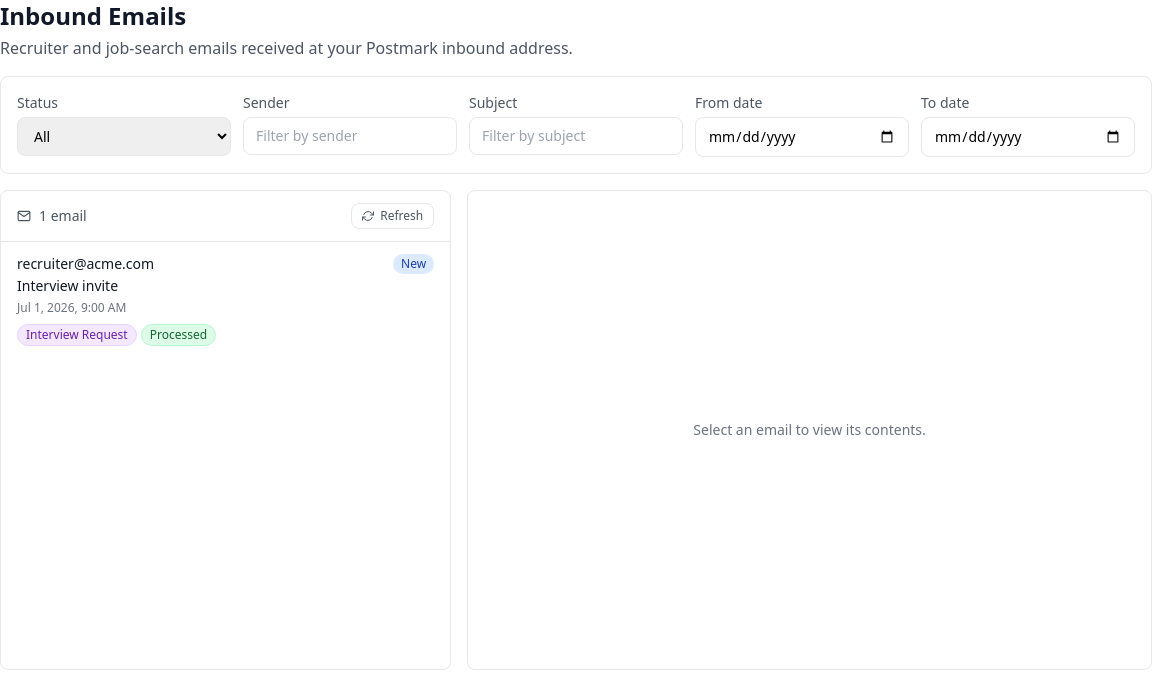
Test: InboundEmailsPage › shows when a forwarded email was originally sent, not just when it was forwarded
The width and height of the screenshot is (1152, 699).
Click the button "recruiter@acme.com".
click(86, 264)  # box [1, 242, 450, 358]
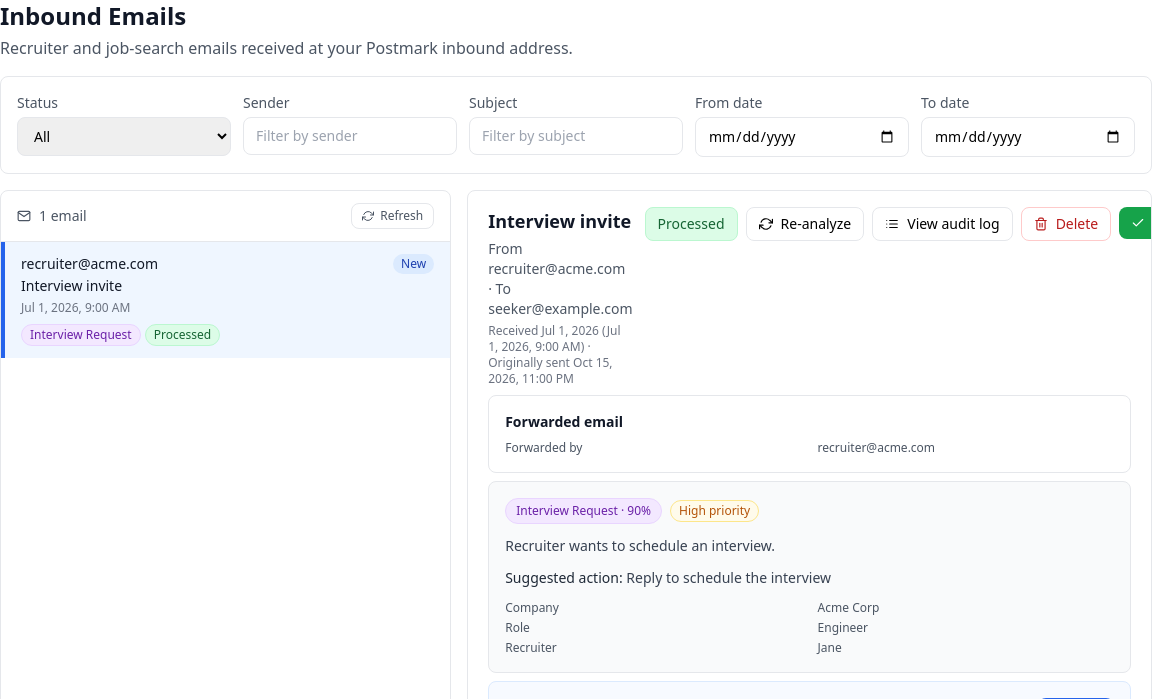
Expected: the text "Originally sent Oct 15, 2026" is shown, [488, 338, 613, 387]
